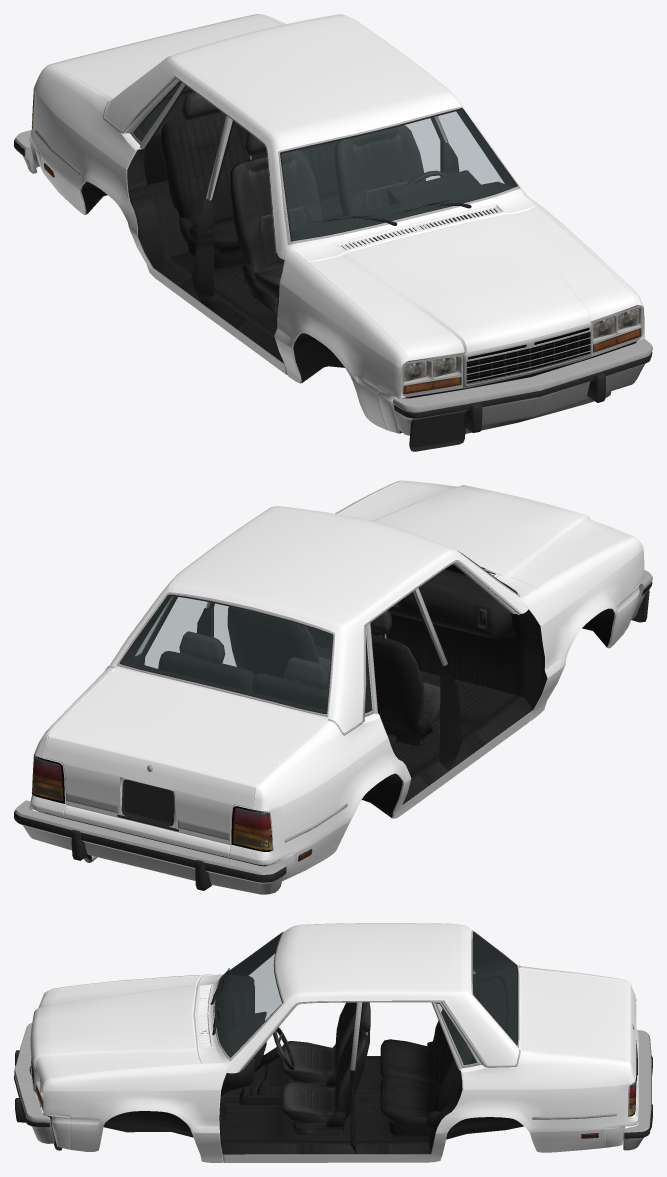
File: Body.obj
3 views of the same model, one above another, from view 1: azimuth 30°, elevation 25°; view 2: azimuth 150°, elevation 25°; view 3: azimuth 270°, elevation 25° (orthographic). The views are drawn at different scales.
Parts seen in each view (by area): view 1: body; view 2: body; view 3: body.
Boxes of the visible parts, x1,y1,x2,y2 form: body: (14,14,652,451); body: (14,480,652,894); body: (14,923,652,1162).
Bounding box in the file's own units: 34.83 × 25.11 × 87.48.
